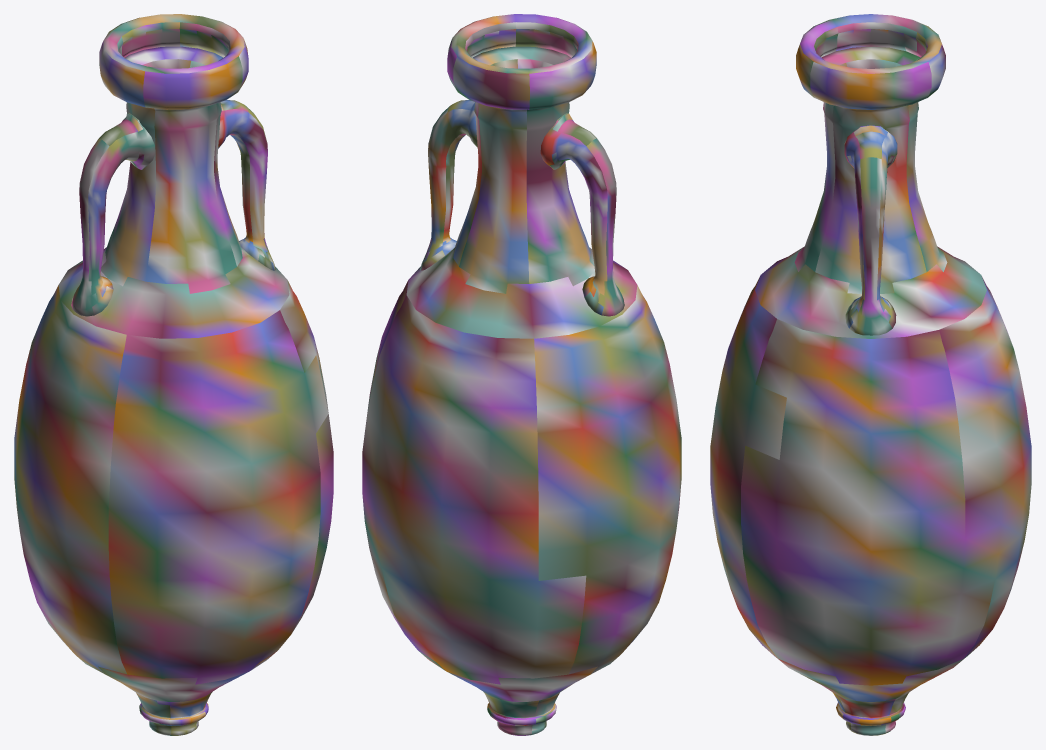
The model's file is SM_amphora03.fbx.
3 views of the same model, side by side, from view 1: azimuth 30°, elevation 25°; view 2: azimuth 150°, elevation 25°; view 3: azimuth 270°, elevation 25° (orthographic).
Visible parts, largest first — view 1: amphora03; view 2: amphora03; view 3: amphora03.
Part boxes in pixels (x1=…): amphora03: x1=14, y1=14, x2=333, y2=735; amphora03: x1=362, y1=14, x2=681, y2=735; amphora03: x1=710, y1=14, x2=1031, y2=735.
Bounding box in the file's own units: 47.29 × 111 × 47.29.
